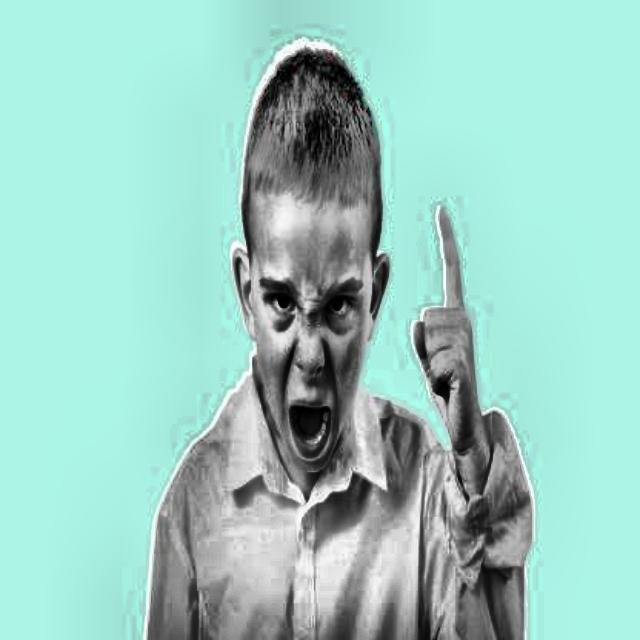angry: (230, 54, 396, 501)
